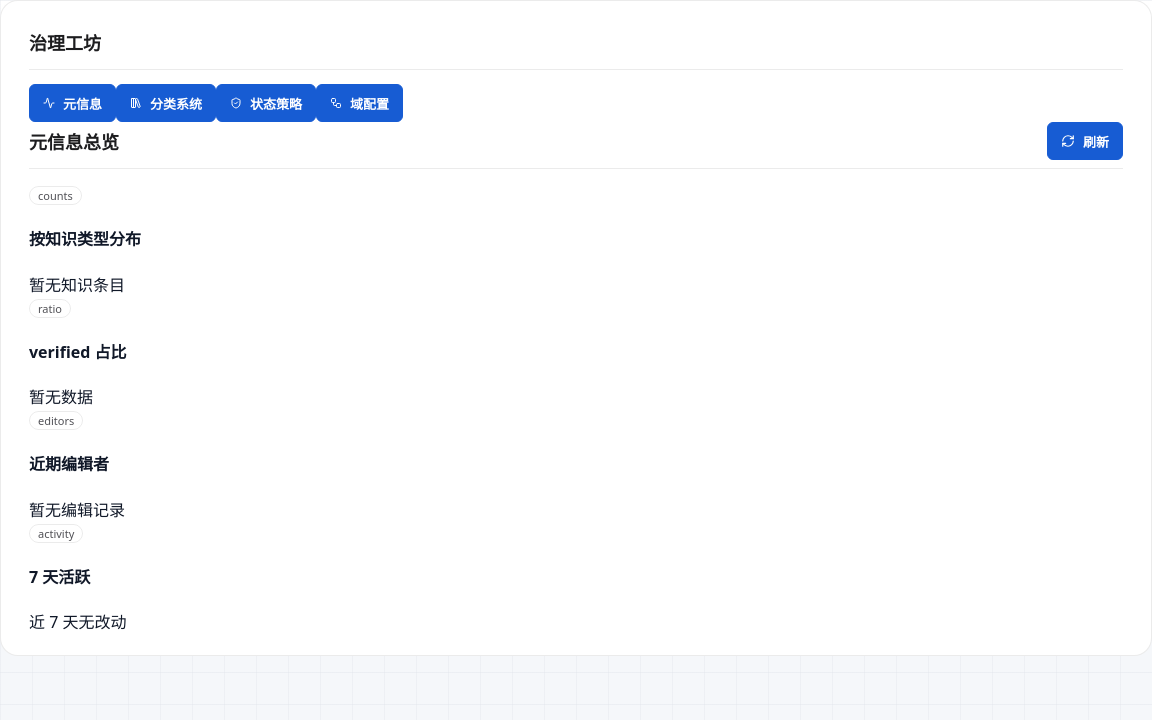
Test case: 治理工坊表格列宽约束 › 状态策略 表的 colgroup 列数与表头一致（6 列）
Click the button "状态策略" at {"x": 266, "y": 103}, box left=216, top=84, right=316, bottom=122
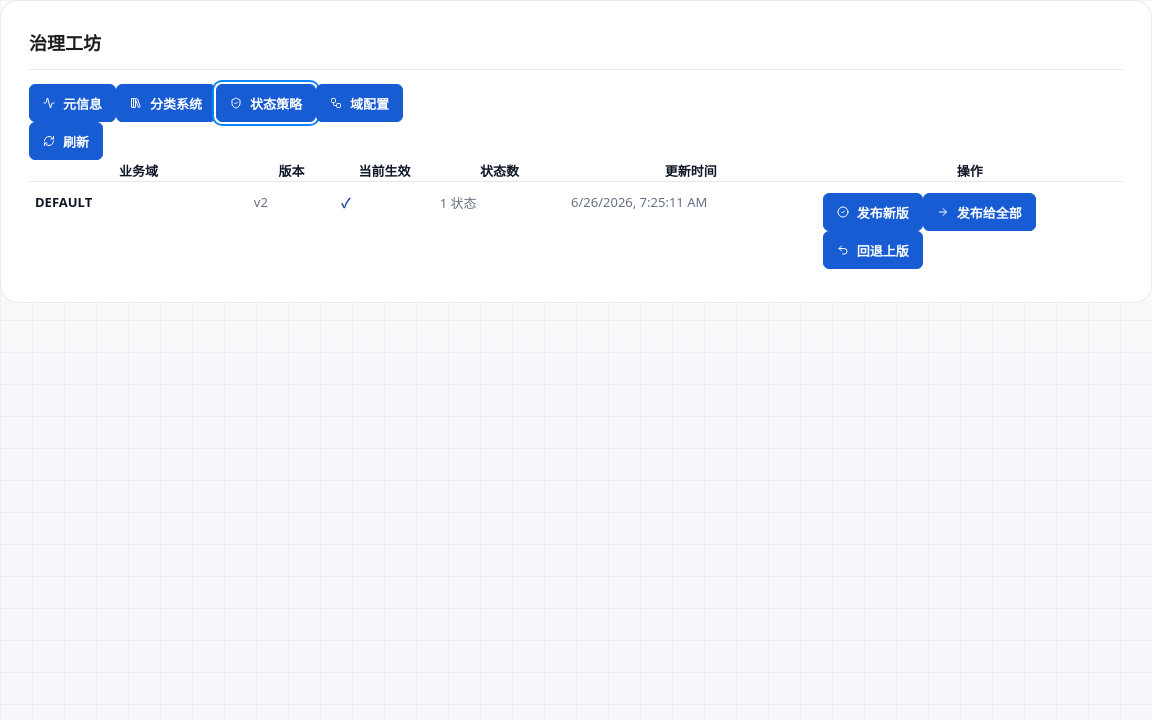
Check: the number of column headings is 6, box left=29, top=160, right=248, bottom=182; left=248, top=160, right=335, bottom=182; left=335, top=160, right=434, bottom=182; left=434, top=160, right=565, bottom=182; left=565, top=160, right=817, bottom=182; left=817, top=160, right=1123, bottom=182
